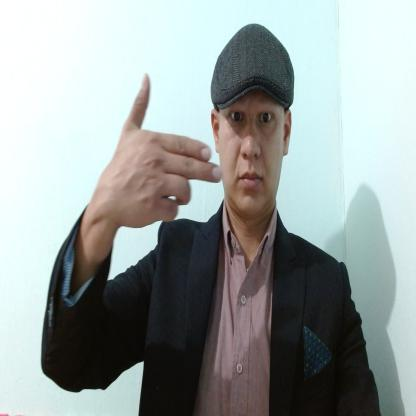H: (112, 72, 221, 229)
